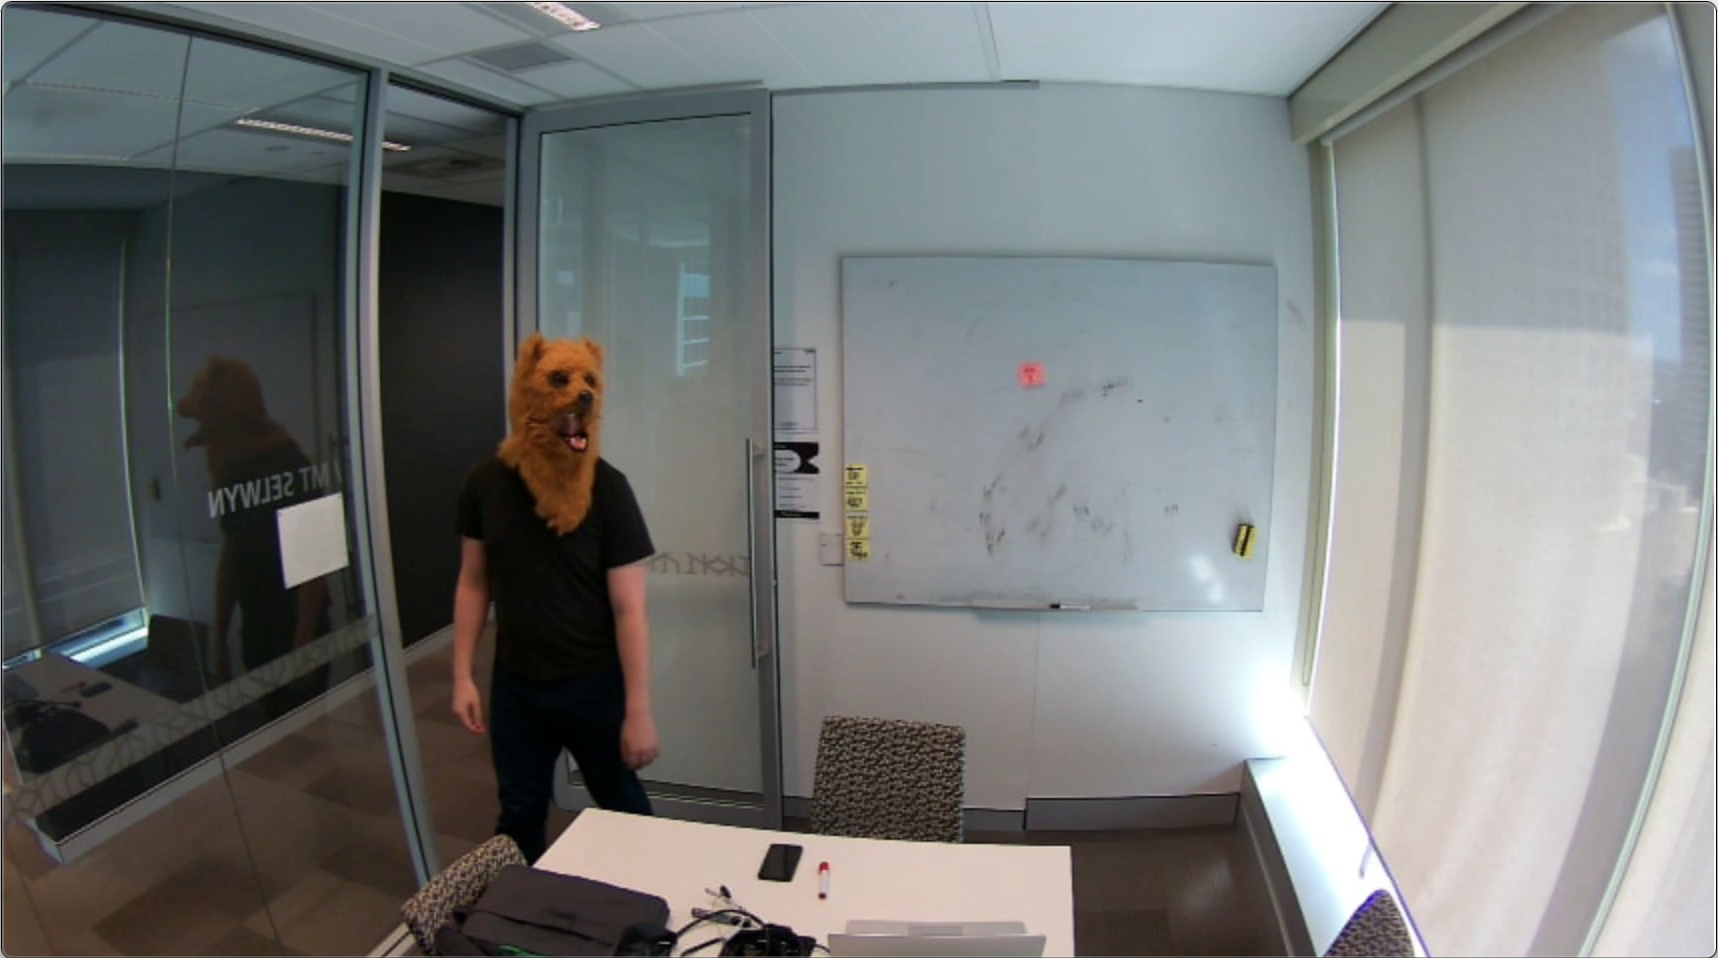Bear: (505, 328, 608, 471)
